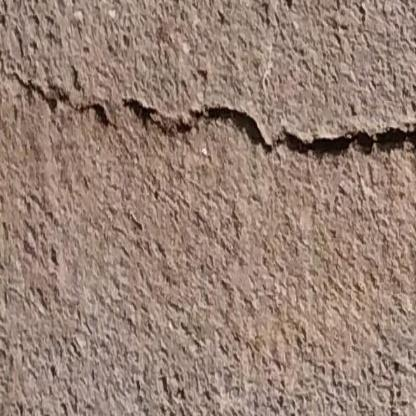Cracks: (123, 96, 416, 170), (0, 28, 116, 133)
